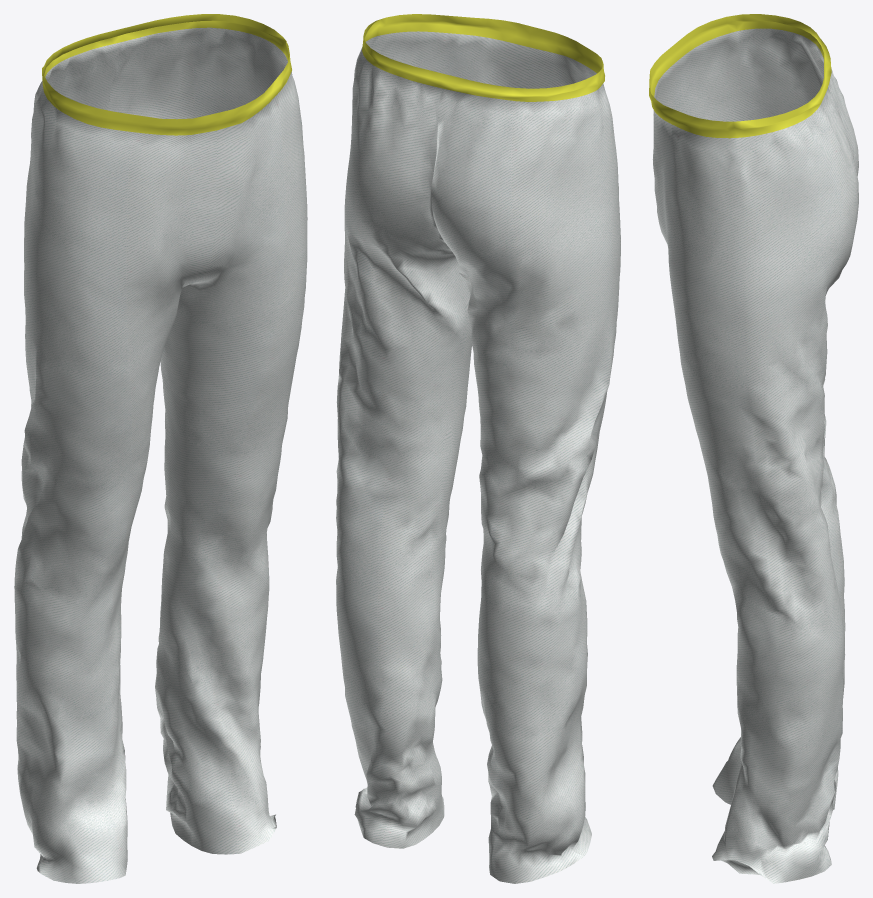
Rendered from pants for unity 1.fbx.
The picture shows the model from 3 angles, left to right: view 1: azimuth 30°, elevation 25°; view 2: azimuth 150°, elevation 25°; view 3: azimuth 270°, elevation 25°; orthographic projection. The views are drawn at different scales.
Parts seen in each view (by area): view 1: pants for unity 1; view 2: pants for unity 1; view 3: pants for unity 1.
Boxes of the visible parts, <box> form: pants for unity 1: <box>14,14,307,883</box>; pants for unity 1: <box>336,14,620,883</box>; pants for unity 1: <box>649,14,858,883</box>.
Size of the model in its own units: 370 by 1086 by 267.
